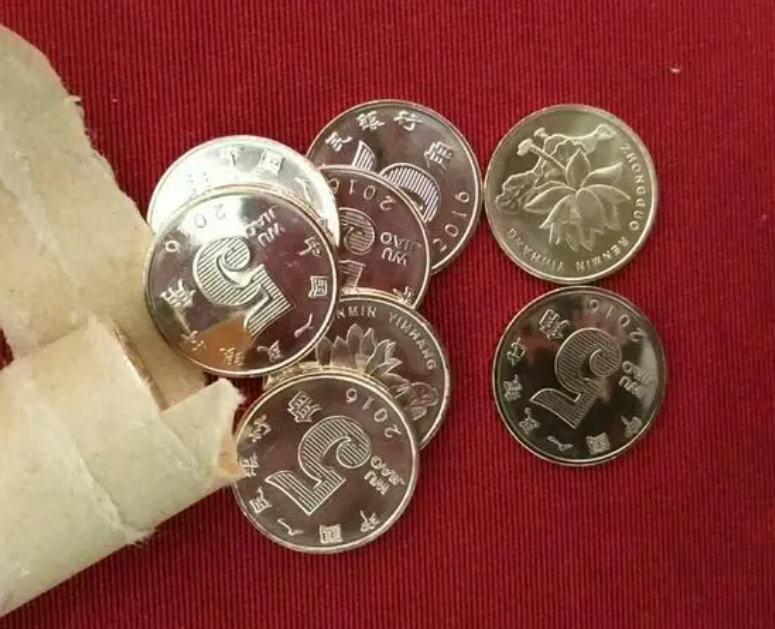coin: (145, 183, 332, 377), (226, 370, 422, 553), (479, 101, 664, 286), (299, 96, 481, 279), (488, 287, 665, 468), (264, 294, 451, 455), (141, 131, 346, 251), (311, 165, 428, 315)
